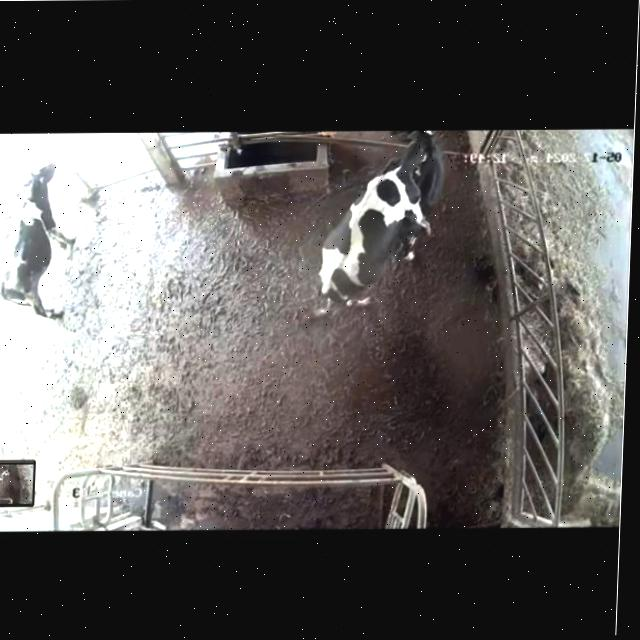ride: (309, 141, 446, 330)
stand: (0, 152, 89, 343), (390, 128, 457, 262)
